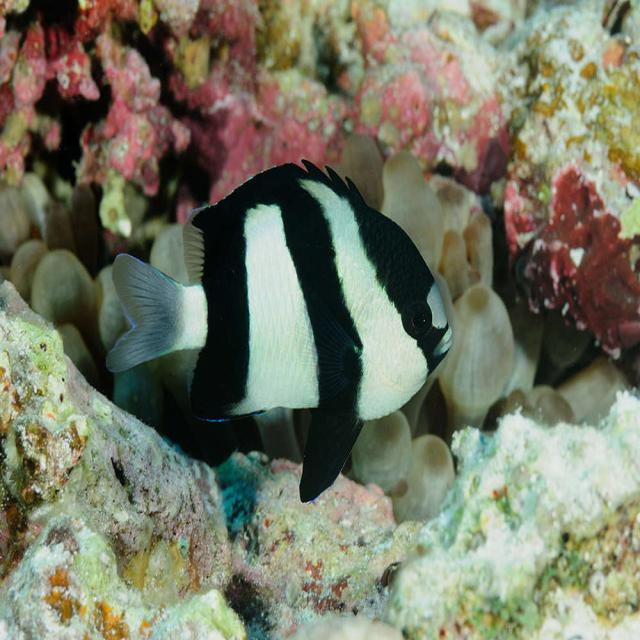ThreeStripedDamselfish: (104, 152, 458, 504)
